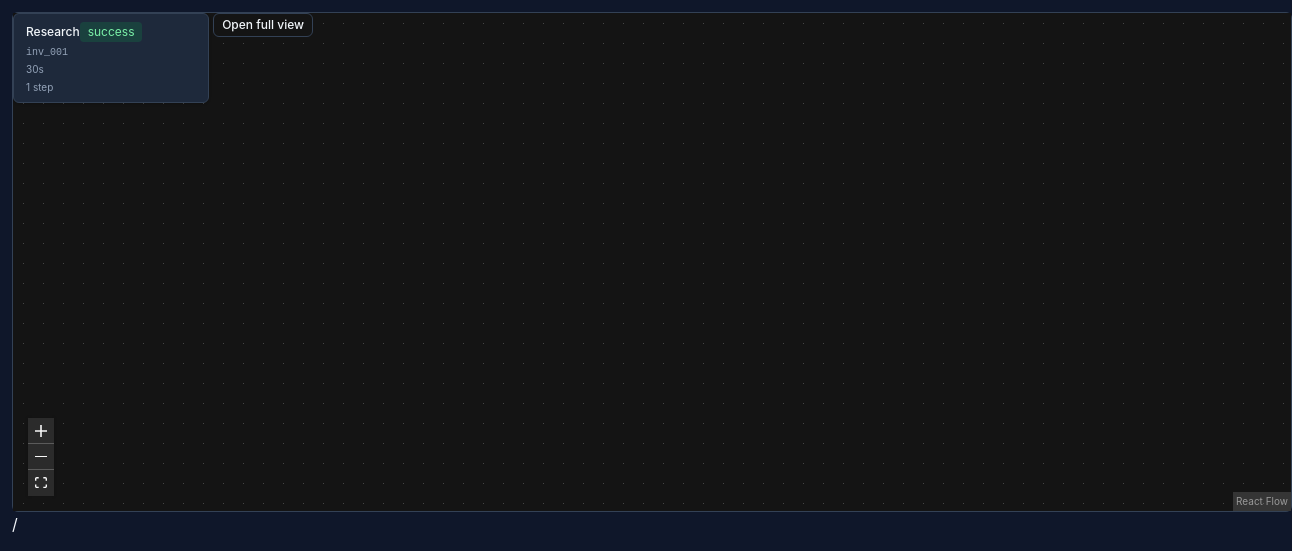
Test: InvocationGraph full-view link › keeps the toggle expanding and collapsing on its own
The width and height of the screenshot is (1292, 551).
Click the button with test id "invocation-node-inv_001": (111, 58) [13, 13, 209, 103]
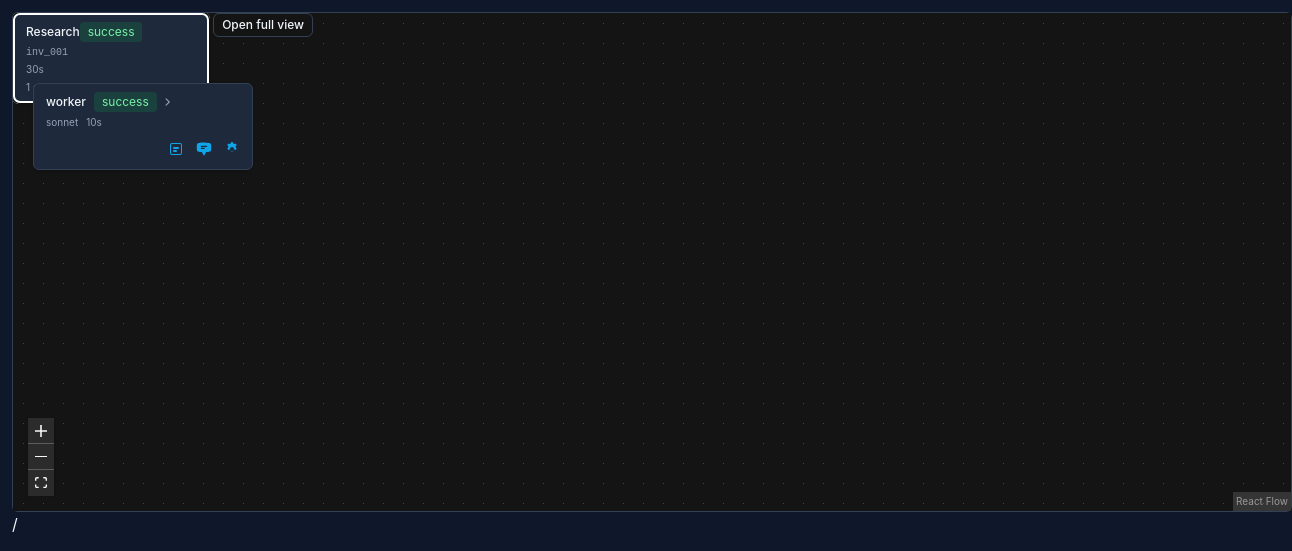
Now the button with test id "invocation-node-inv_001" is expanded
Now the element with test id "workflow-node-inv_001-worker" is shown, box [33, 83, 253, 170]
Click the button with test id "invocation-node-inv_001": (111, 58) [13, 13, 209, 103]
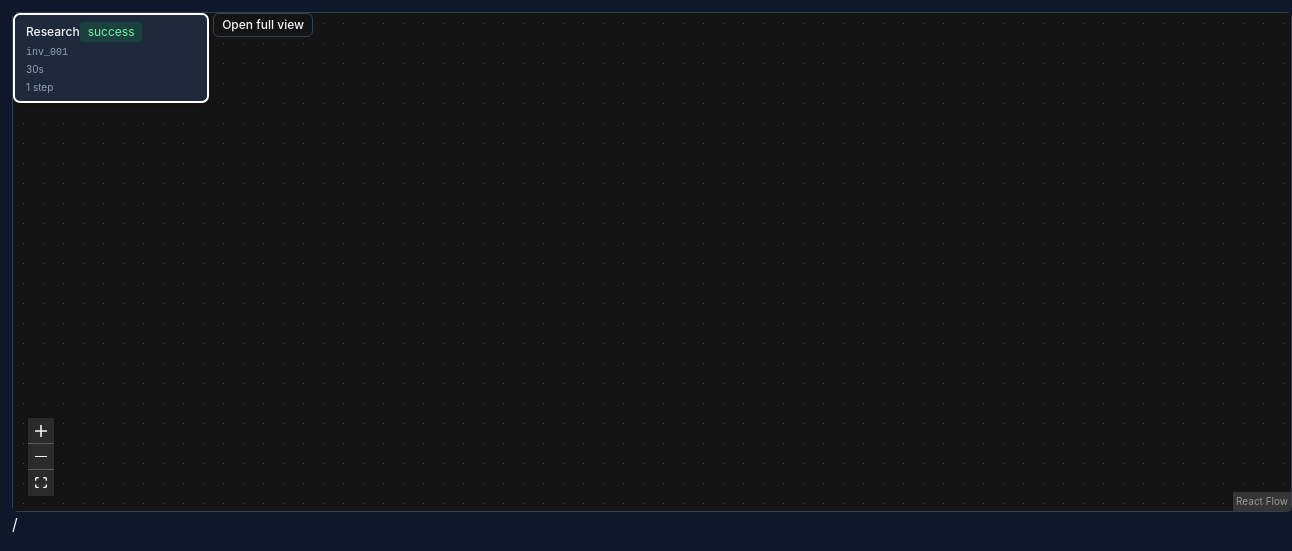
Expected: the text with test id "location" reads "/", [12, 514, 18, 534]
Now the button with test id "invocation-node-inv_001" is collapsed, box [13, 13, 209, 103]
